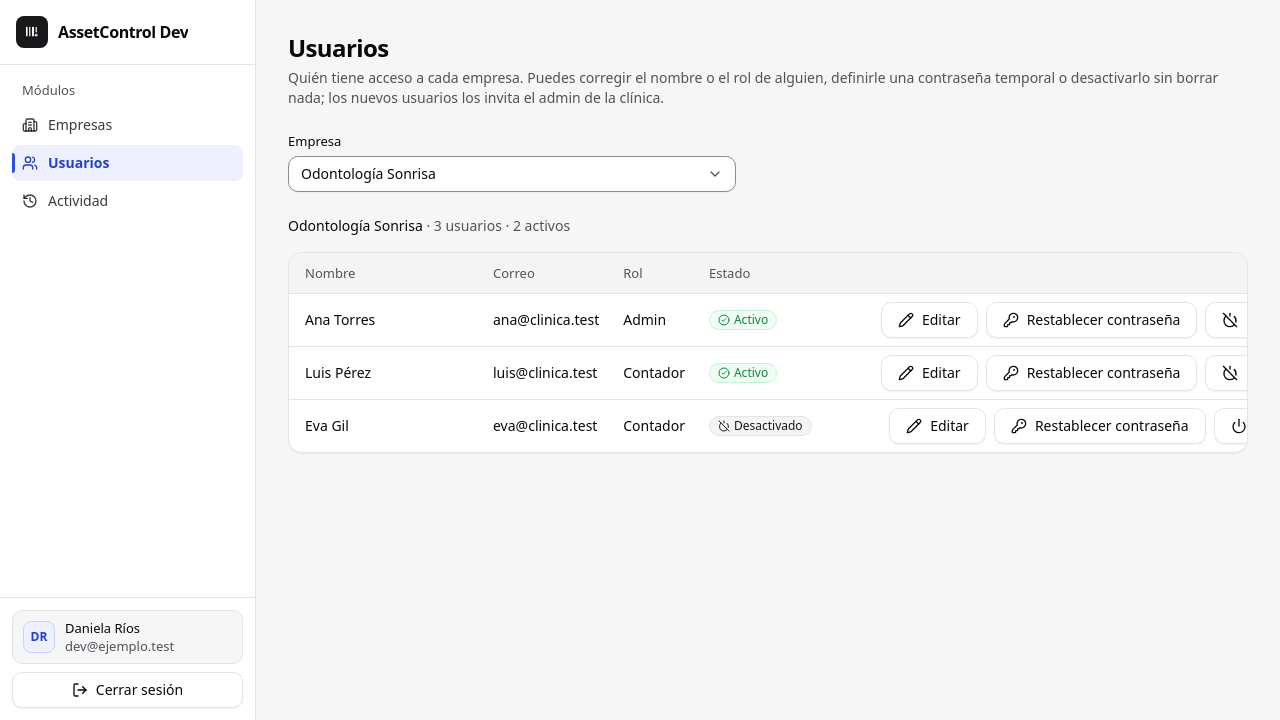
Test: guardar (R47, R49, R50) › solo el nombre: PUT con exactamente {nombre, rol}, sin confirmar; cierra y refresca la lista
Click the button with aria-label "Editar a Luis Pérez". click: click(929, 372)
box: 881,354 -> 978,390
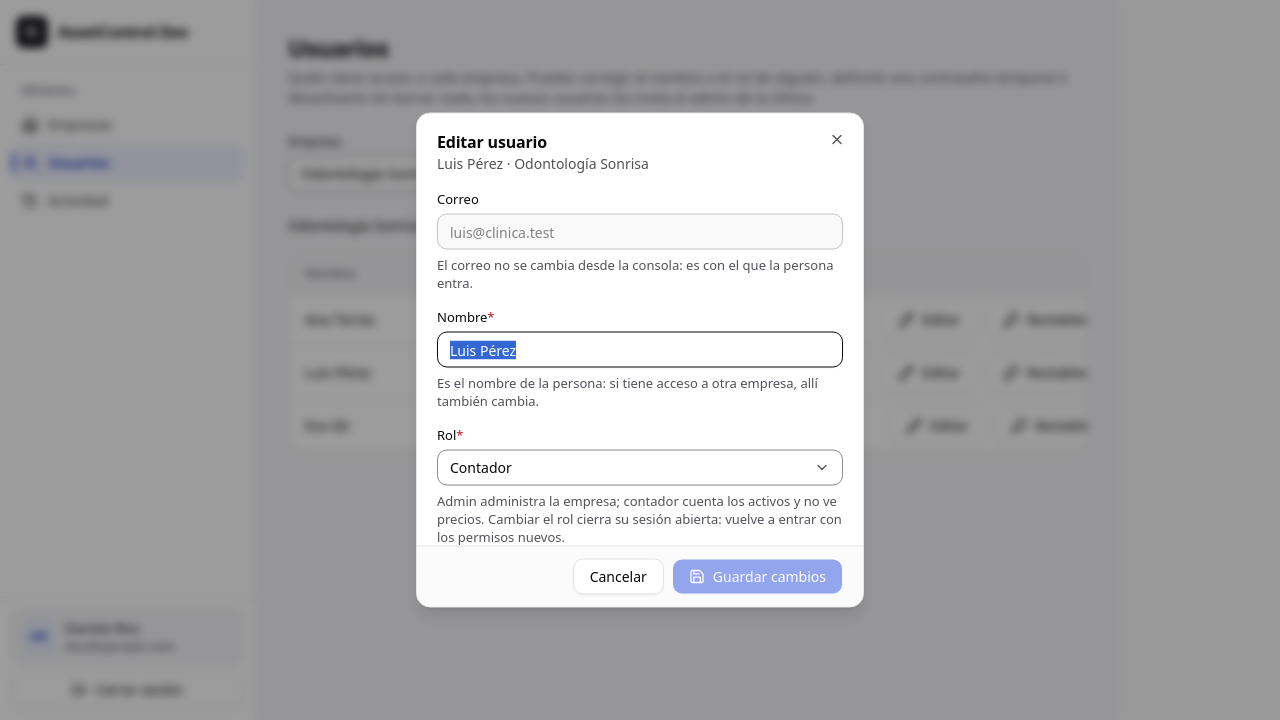
Replace the text in the field labelled "Nombre*" with "  Luis A. Pérez  ". click: (640, 350)
box: 437,332 -> 843,368
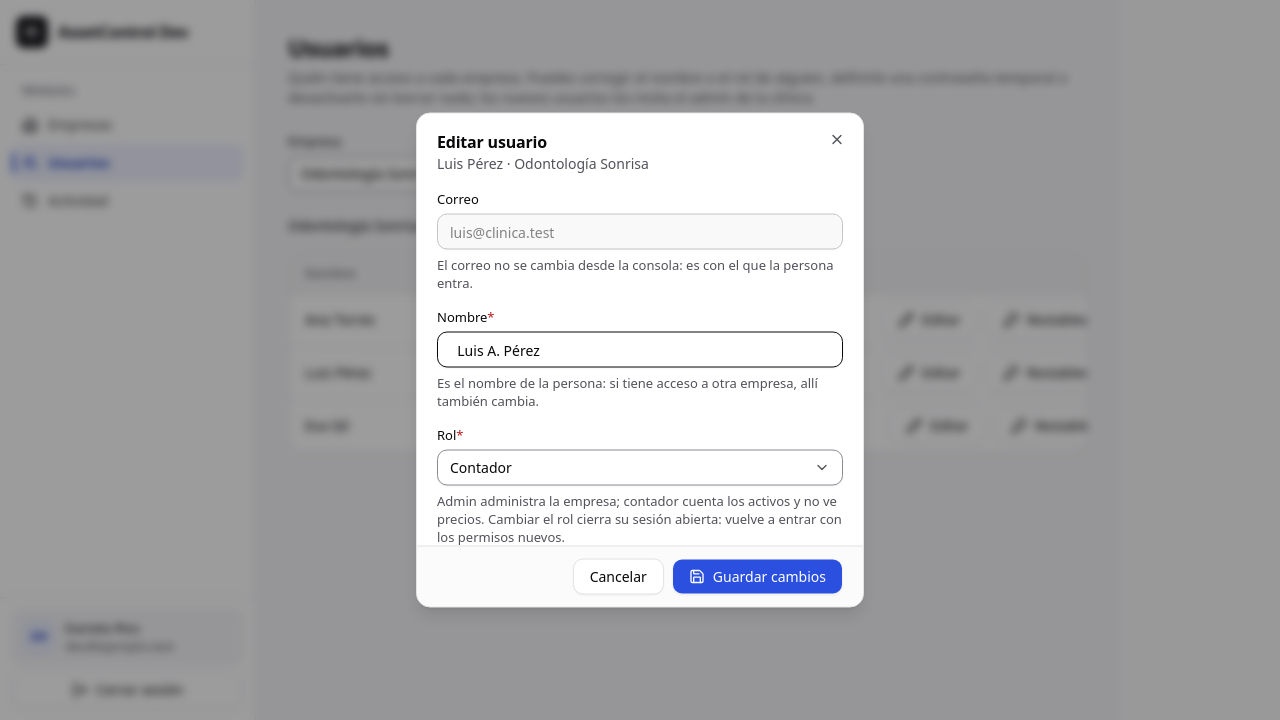
Expected: the button "Guardar cambios" is enabled
Click the button "Guardar cambios". click: click(757, 576)
box: 672,558 -> 843,594
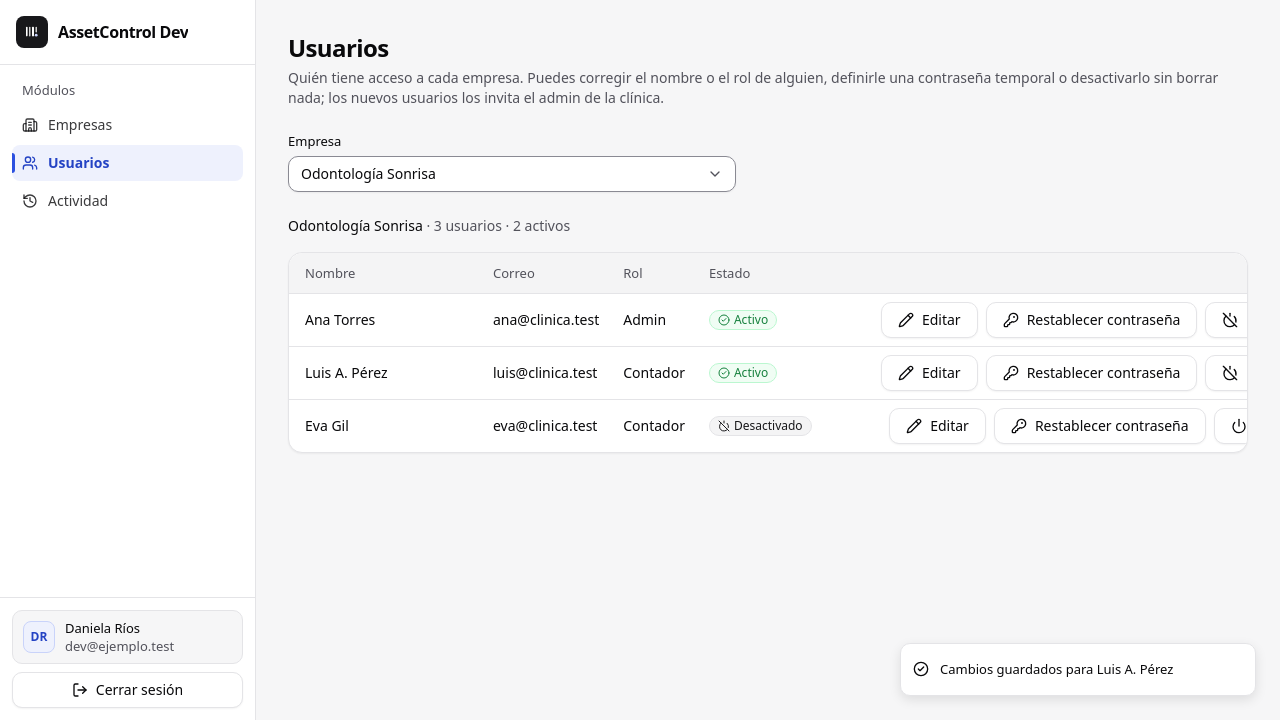
Expected: the dialog is gone
Expected: the text "Luis A. Pérez" is shown, 305,362 -> 388,382
